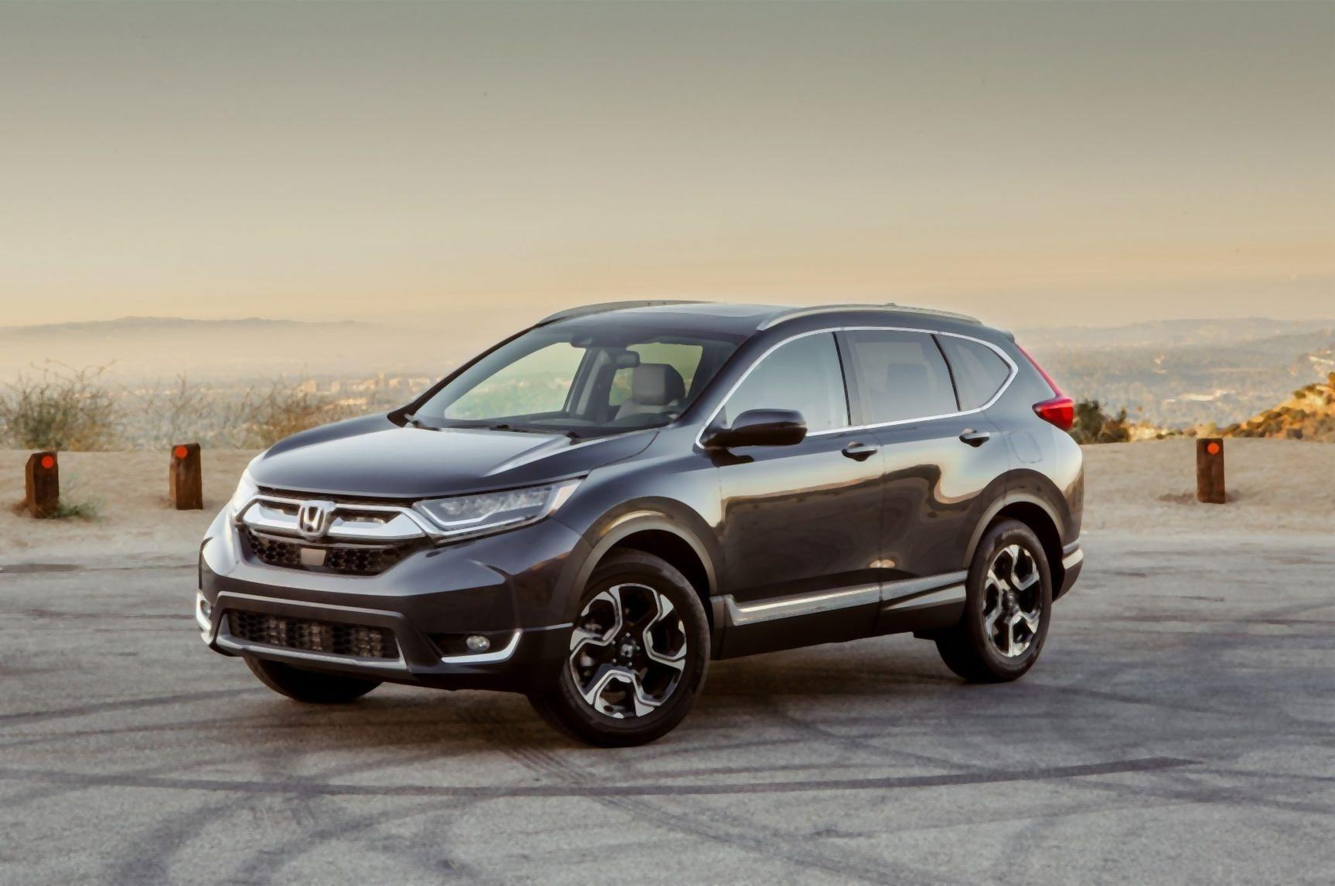Car hood: (241, 406, 663, 504)
Fender - -F-L-: (552, 401, 731, 674)
Fender - -R-L-: (990, 357, 1090, 562)
Front bumper: (187, 519, 600, 705)
Headlight - -L-: (399, 467, 601, 549)
Headlight - -R-: (227, 462, 286, 518)
Passenger-s door - -F-L-: (716, 305, 886, 609)
Passenger-s door - -R-L-: (864, 306, 1015, 606)
Rear bumper: (1052, 497, 1109, 623)
Rear light - -L-: (1008, 331, 1093, 445)
Side bumper - -L-: (697, 564, 979, 668)
Side mirror - -L-: (708, 400, 816, 456)
